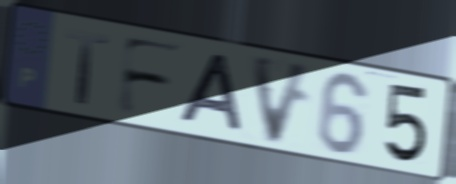5: (384, 82, 429, 165)
6: (314, 69, 371, 157)
A: (176, 51, 246, 137)
F: (114, 32, 187, 119)
T: (65, 27, 112, 108)
V: (248, 50, 316, 149)
